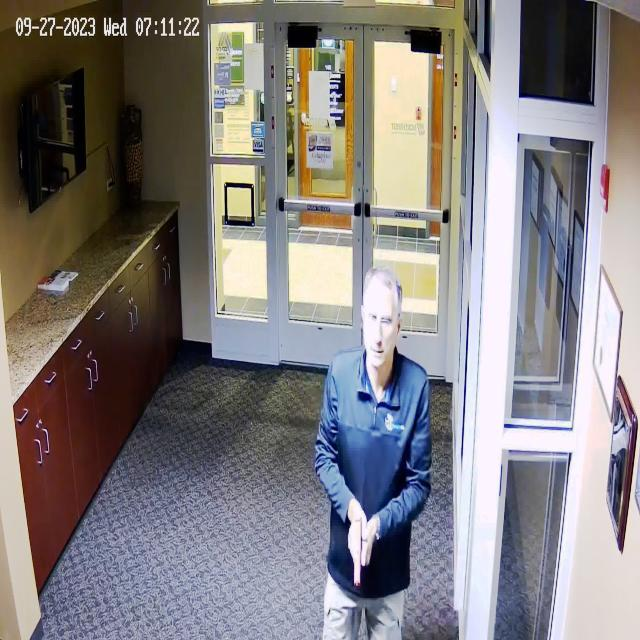Gun: (338, 515, 398, 592)
